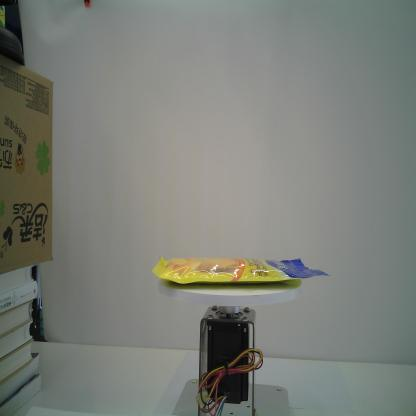Dried Fruit: (151, 255, 332, 284)
